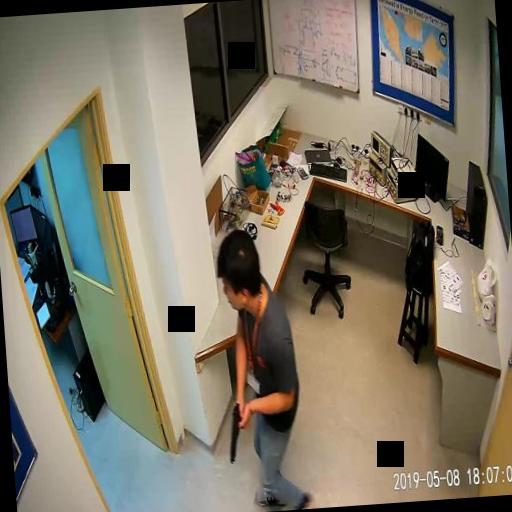Handgun: (224, 398, 243, 464)
